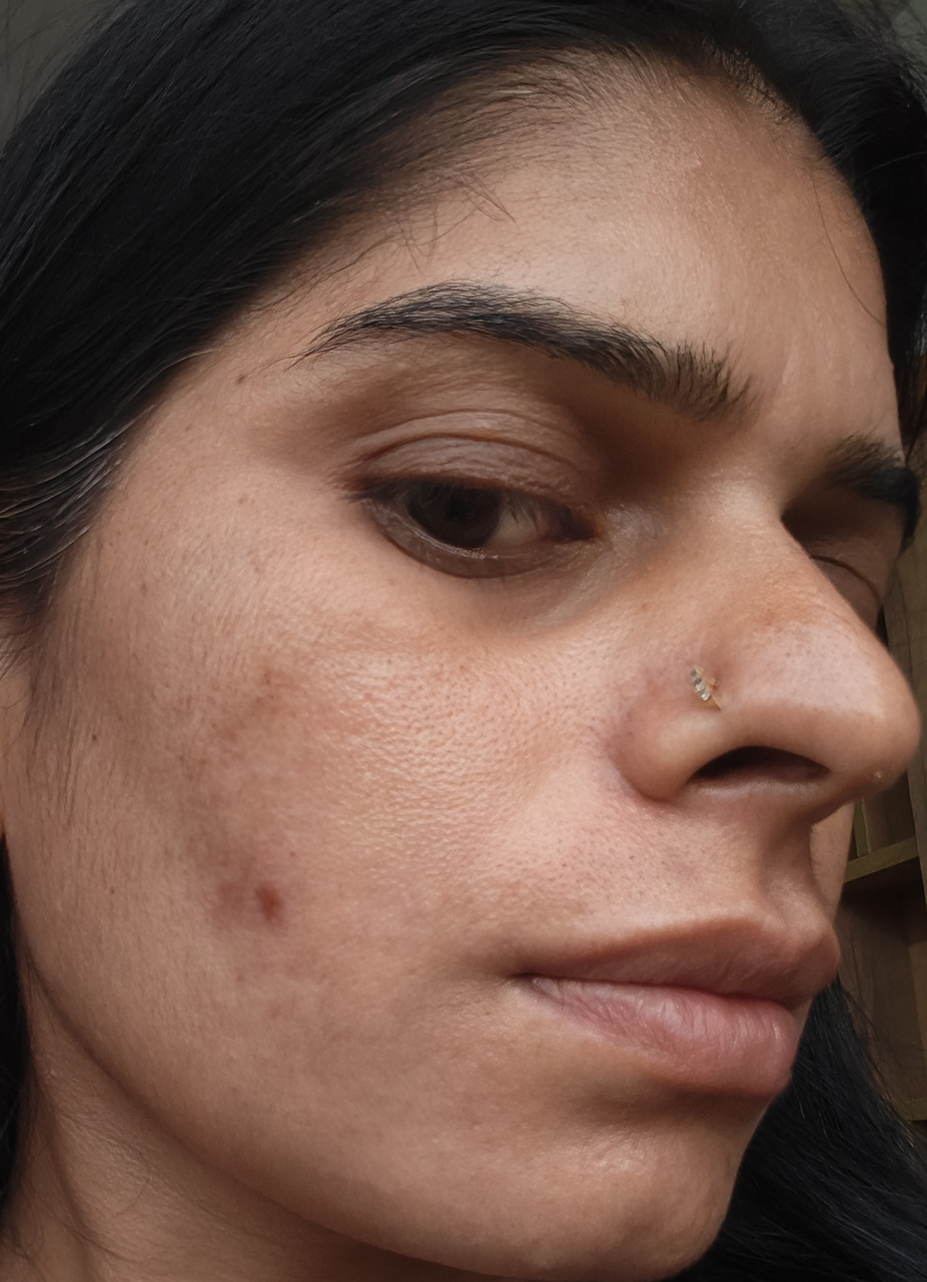closed_comedone: (691, 145, 710, 185)
